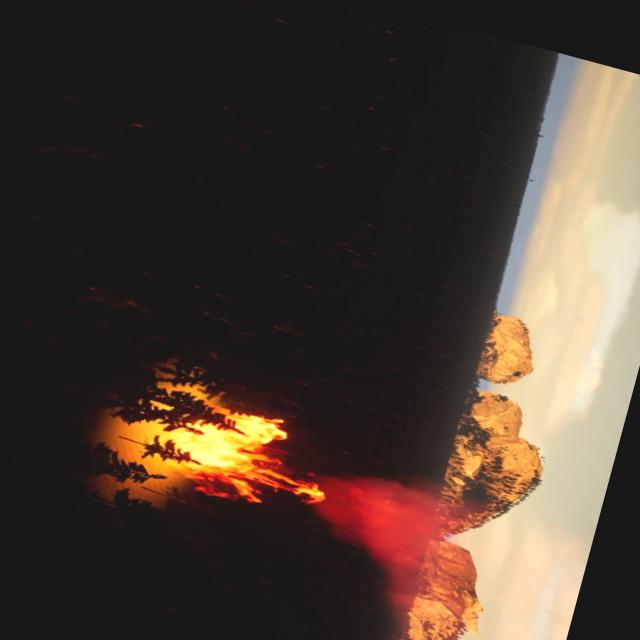fire: (155, 390, 344, 528)
smoke: (304, 465, 468, 618)
